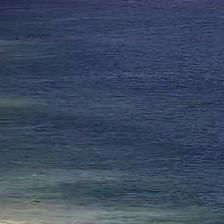surfer: (38, 36, 43, 40), (26, 35, 30, 39), (15, 36, 19, 40), (24, 155, 29, 158)
